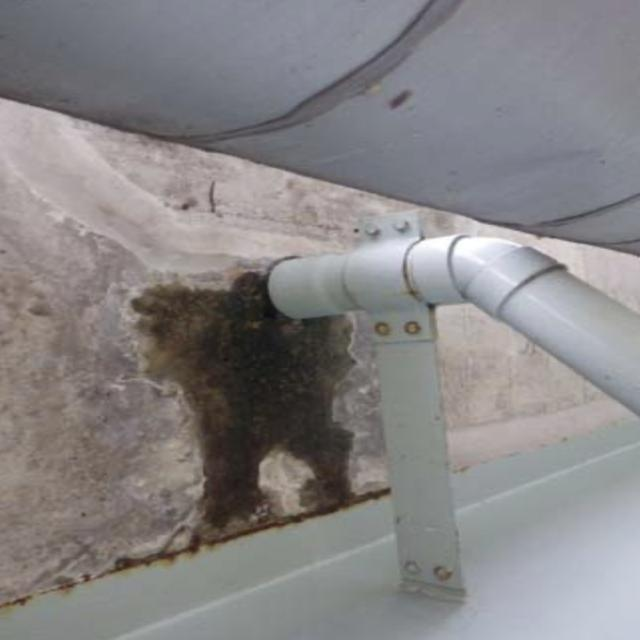leakage: (118, 263, 376, 547)
